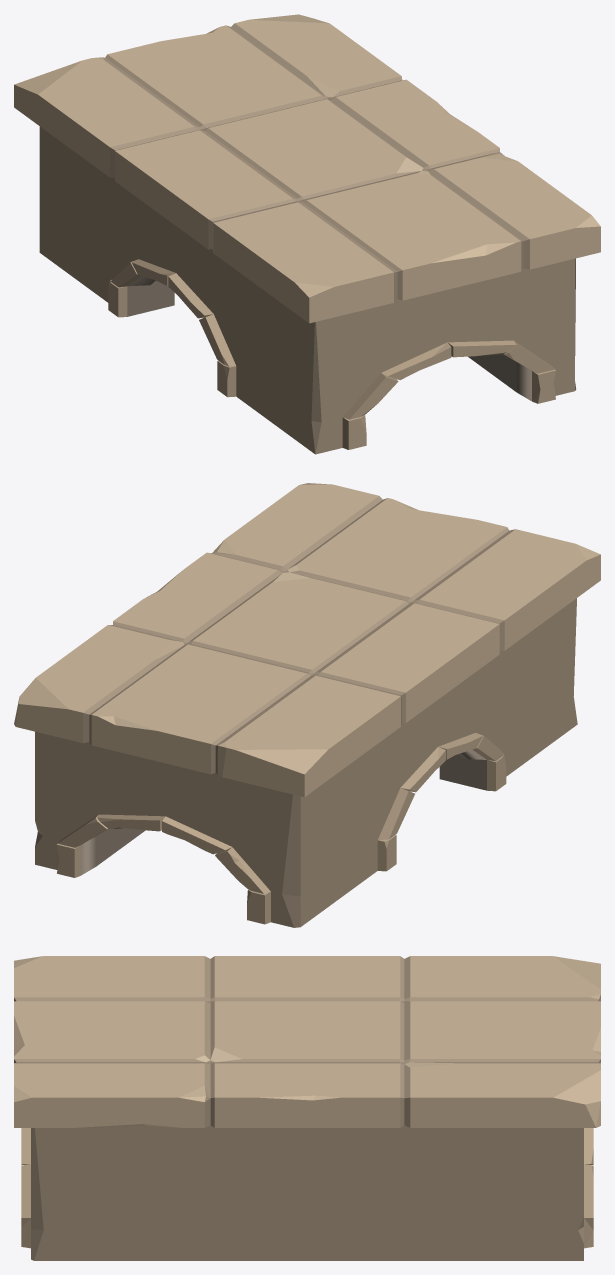
The model's file is SM_Prop_Cooking_Block_01.fbx.
3 renders of one model, top to bottom at view 1: azimuth 30°, elevation 25°; view 2: azimuth 150°, elevation 25°; view 3: azimuth 270°, elevation 25°, orthographic.
Visible parts, largest first — view 1: SM_Prop_Cooking_Block_01; view 2: SM_Prop_Cooking_Block_01; view 3: SM_Prop_Cooking_Block_01.
Boxes of the visible parts, box(x1,y1,x2,y2) form: SM_Prop_Cooking_Block_01: box(14, 14, 600, 454); SM_Prop_Cooking_Block_01: box(14, 483, 600, 927); SM_Prop_Cooking_Block_01: box(14, 956, 600, 1260).
Bounding box in the file's own units: 1.43 × 0.8 × 2.5.
1 material, 1 textured.
